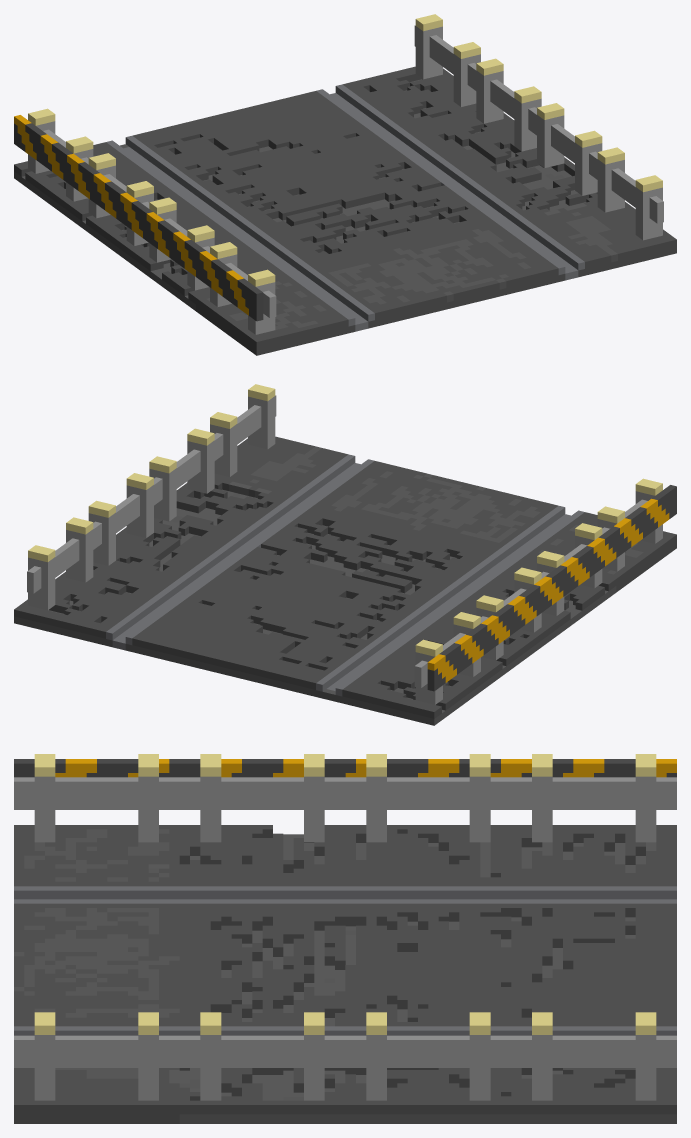
Rendered from Tutorialmap_V2_unfinished-34.obj.
3 views of the same model, one above another, from view 1: azimuth 30°, elevation 25°; view 2: azimuth 150°, elevation 25°; view 3: azimuth 270°, elevation 25° (orthographic). The views are drawn at different scales.
Size of the model in its own units: 6.4 by 1 by 6.4.
1 material, 1 textured.
